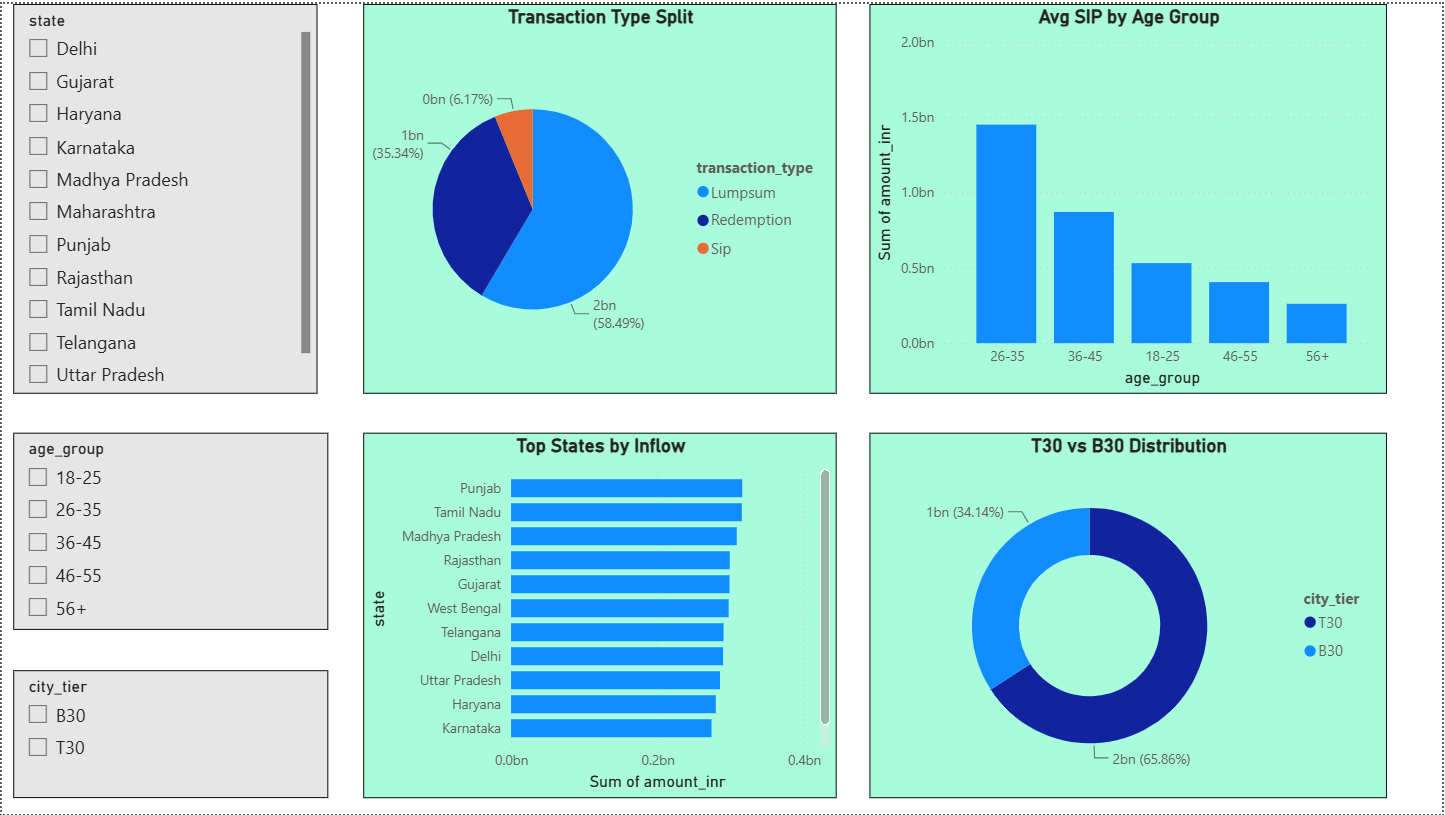

The page's visual inventory and layout, read from the dashboard file:
{"tool":"powerbi","page":{"name":"Investor Analytics","canvas":[1280,720],"ordinal":2},"visuals":[{"type":"slicer","fields":{"Values":["clean_transactions.state"]},"box":[10,0,270,346.7],"z":0},{"type":"slicer","fields":{"Values":["clean_transactions.age_group"]},"box":[10,381.1,280,175.6],"z":1000},{"type":"slicer","fields":{"Values":["clean_transactions.city_tier"]},"box":[10,592.2,280,113.3],"z":2000},{"type":"pieChart","title":"Transaction Type Split","fields":{"Category":["clean_transactions.transaction_type"],"Y":["Sum(clean_transactions.amount_inr)"]},"box":[321.1,0,421.1,346.7],"z":3000},{"type":"barChart","title":"Top States by Inflow","fields":{"Category":["clean_transactions.state"],"Y":["Sum(clean_transactions.amount_inr)"]},"box":[321.1,381.1,421.1,324.4],"z":4000},{"type":"columnChart","title":"Avg SIP by Age Group","fields":{"Category":["clean_transactions.age_group"],"Y":["Sum(clean_transactions.amount_inr)"]},"box":[771.1,0,460,346.7],"z":5000},{"type":"donutChart","title":"T30 vs B30 Distribution","fields":{"Category":["clean_transactions.city_tier"],"Y":["Sum(clean_transactions.amount_inr)"]},"box":[771.1,381.1,460,324.4],"z":6000}]}

Visuals, with their boxes in screenshot pixels (x1, y1, x2, y2), scaled from the page's 1280x720 canvas onto the 1445x815 screenshot:
slicer - clean_transactions.state: bbox(11, 0, 316, 392)
slicer - clean_transactions.age_group: bbox(11, 431, 327, 630)
slicer - clean_transactions.city_tier: bbox(11, 670, 327, 799)
"Transaction Type Split" pieChart: bbox(362, 0, 838, 392)
"Top States by Inflow" barChart: bbox(362, 431, 838, 799)
"Avg SIP by Age Group" columnChart: bbox(870, 0, 1390, 392)
"T30 vs B30 Distribution" donutChart: bbox(870, 431, 1390, 799)
